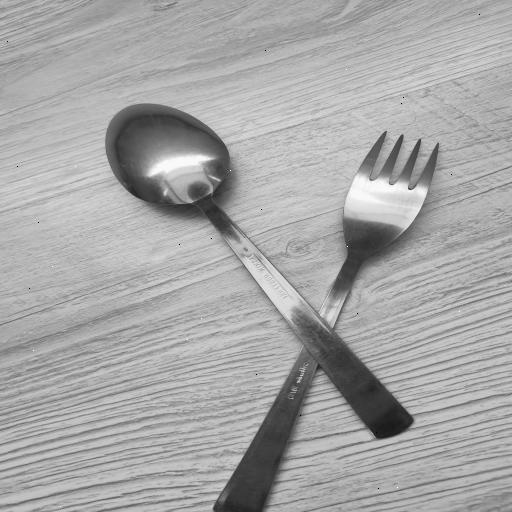fork: (214, 122, 450, 512)
spoon: (104, 101, 410, 443)
